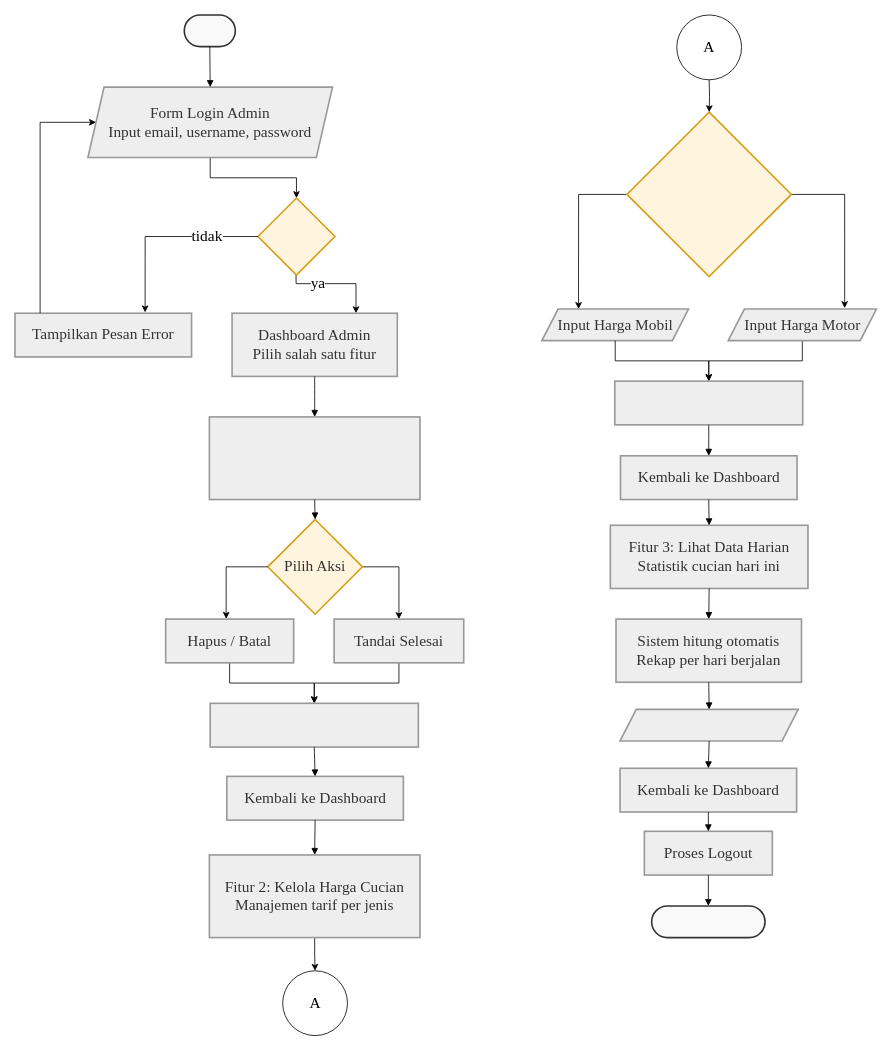
This 891x1050 diagram has some shape labels left out. Here are the shapes that lost their labels. From the top down, the centre of each, then its label:
At (x=209, y=30): "Mulai".
At (x=709, y=194): "Pilih jenis kendaraan".
At (x=296, y=236): "Valid?".
At (x=708, y=402): "Harga berhasil disimpan".
At (x=314, y=458): "Fitur 1: Kelola Antrian Lihat daftar antrian realtime".
At (x=314, y=724): "Antrian diperbarui realtime".
At (x=709, y=724): "Tampil total kendaraan".
At (x=707, y=921): "Selesai / Logout".
